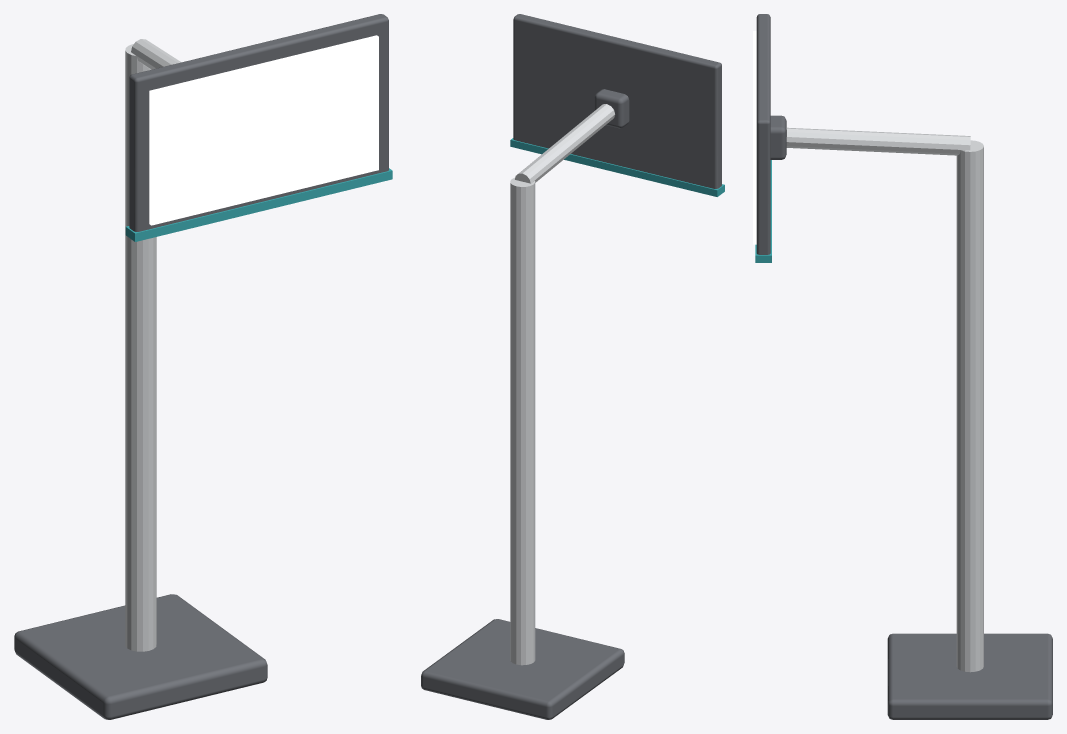
File: Surgery Monitor Arm (Dental Practice and Surgery).glb
The picture shows the model from 3 angles, left to right: view 1: azimuth 30°, elevation 25°; view 2: azimuth 150°, elevation 25°; view 3: azimuth 270°, elevation 25°; orthographic projection. The views are drawn at different scales.
Visible parts, largest first — view 1: surgery-monitor-arm, monitor-arm/light, monitor-arm/dark, monitor-arm/teal, monitor-arm/steel; view 2: monitor-arm/dark, surgery-monitor-arm, monitor-arm/steel, monitor-arm/teal; view 3: surgery-monitor-arm, monitor-arm/dark, monitor-arm/steel, monitor-arm/light.
Boxes of the visible parts, x1=… form: surgery-monitor-arm: x1=14, y1=44, x2=267, y2=719; monitor-arm/light: x1=149, y1=35, x2=378, y2=225; monitor-arm/dark: x1=129, y1=14, x2=388, y2=231; monitor-arm/teal: x1=125, y1=168, x2=392, y2=241; monitor-arm/steel: x1=131, y1=39, x2=181, y2=69; monitor-arm/dark: x1=513, y1=14, x2=721, y2=188; surgery-monitor-arm: x1=421, y1=177, x2=624, y2=719; monitor-arm/steel: x1=515, y1=104, x2=614, y2=183; monitor-arm/teal: x1=510, y1=138, x2=724, y2=196; surgery-monitor-arm: x1=887, y1=140, x2=1052, y2=719; monitor-arm/dark: x1=756, y1=14, x2=786, y2=254; monitor-arm/steel: x1=786, y1=127, x2=970, y2=155; monitor-arm/light: x1=753, y1=31, x2=756, y2=244.
Size of the model in its own units: 0.566 by 1.49 by 0.653.
